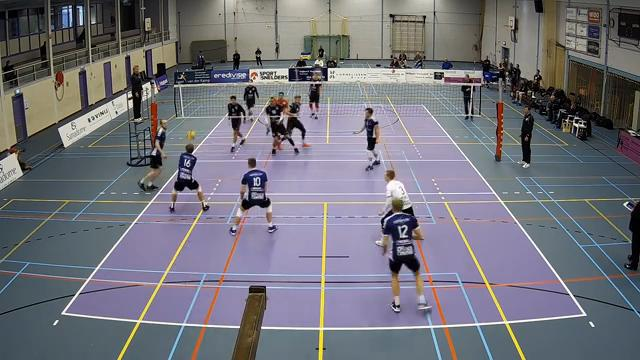Player: (383, 199, 430, 312), (229, 157, 277, 234), (379, 170, 414, 233), (138, 119, 167, 190), (265, 97, 298, 154), (354, 108, 379, 170), (287, 95, 309, 146), (228, 96, 245, 151), (309, 72, 321, 119), (243, 84, 258, 120), (276, 92, 288, 109)
Receive: (164, 126, 212, 216)
ball: (184, 127, 198, 143)
